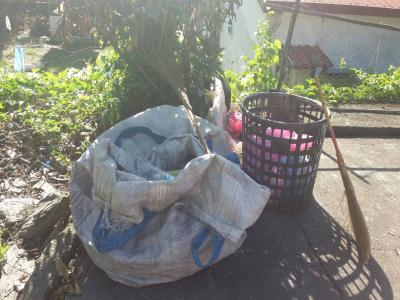plastic_bag: (73, 103, 272, 286)
